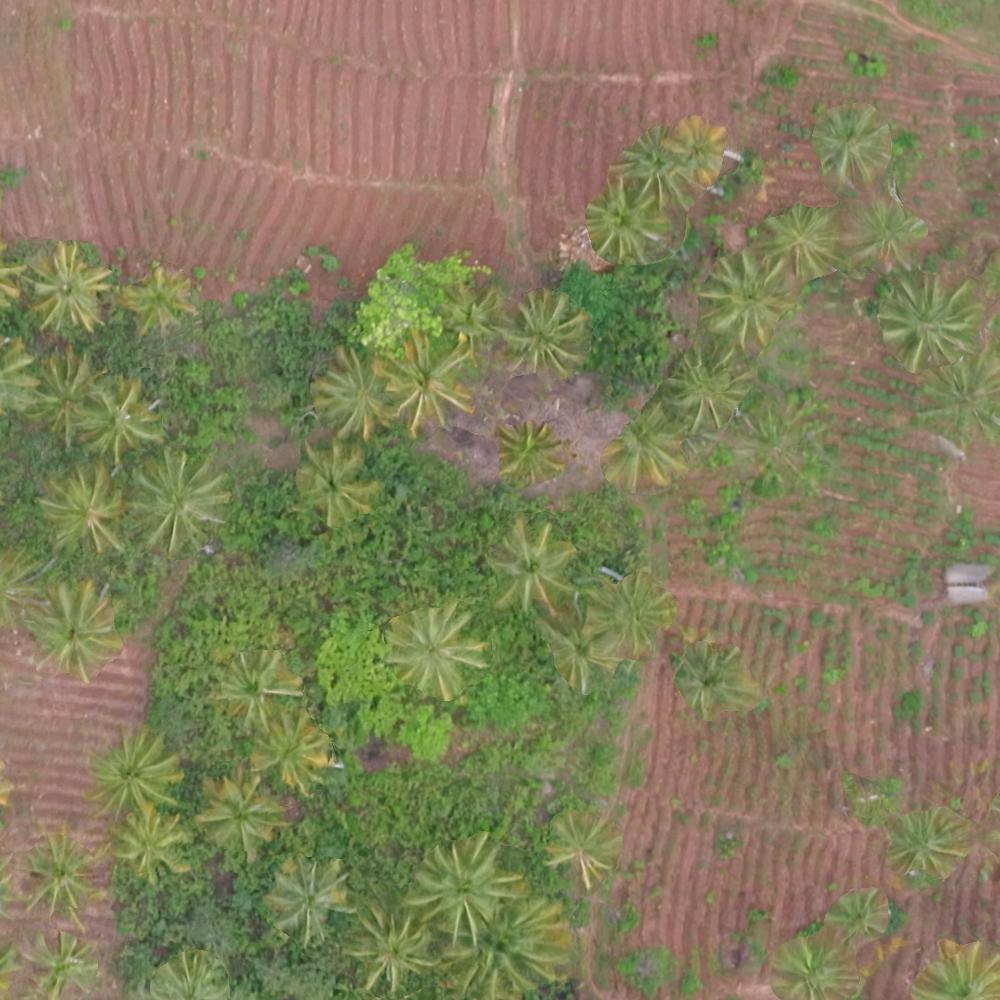Palm: (448, 892, 569, 997), (412, 844, 510, 934), (880, 278, 978, 368), (700, 255, 793, 349), (128, 459, 221, 552), (376, 340, 472, 429), (391, 608, 485, 697), (28, 581, 115, 674), (21, 831, 104, 923), (312, 346, 398, 434), (488, 522, 574, 610), (96, 731, 183, 813), (25, 247, 110, 329), (265, 857, 348, 939), (535, 611, 621, 690), (501, 294, 585, 374), (215, 647, 298, 727), (291, 443, 375, 521), (585, 182, 669, 260), (594, 572, 676, 650), (602, 412, 688, 485), (348, 912, 431, 986), (200, 776, 279, 852), (663, 347, 743, 422), (75, 383, 152, 460), (542, 812, 625, 883), (883, 807, 962, 881), (42, 472, 122, 545), (121, 267, 201, 335), (851, 199, 924, 273), (814, 107, 890, 178), (251, 719, 332, 785), (768, 208, 837, 281), (776, 934, 855, 997), (29, 933, 98, 1000), (111, 816, 183, 880), (496, 421, 568, 484)
